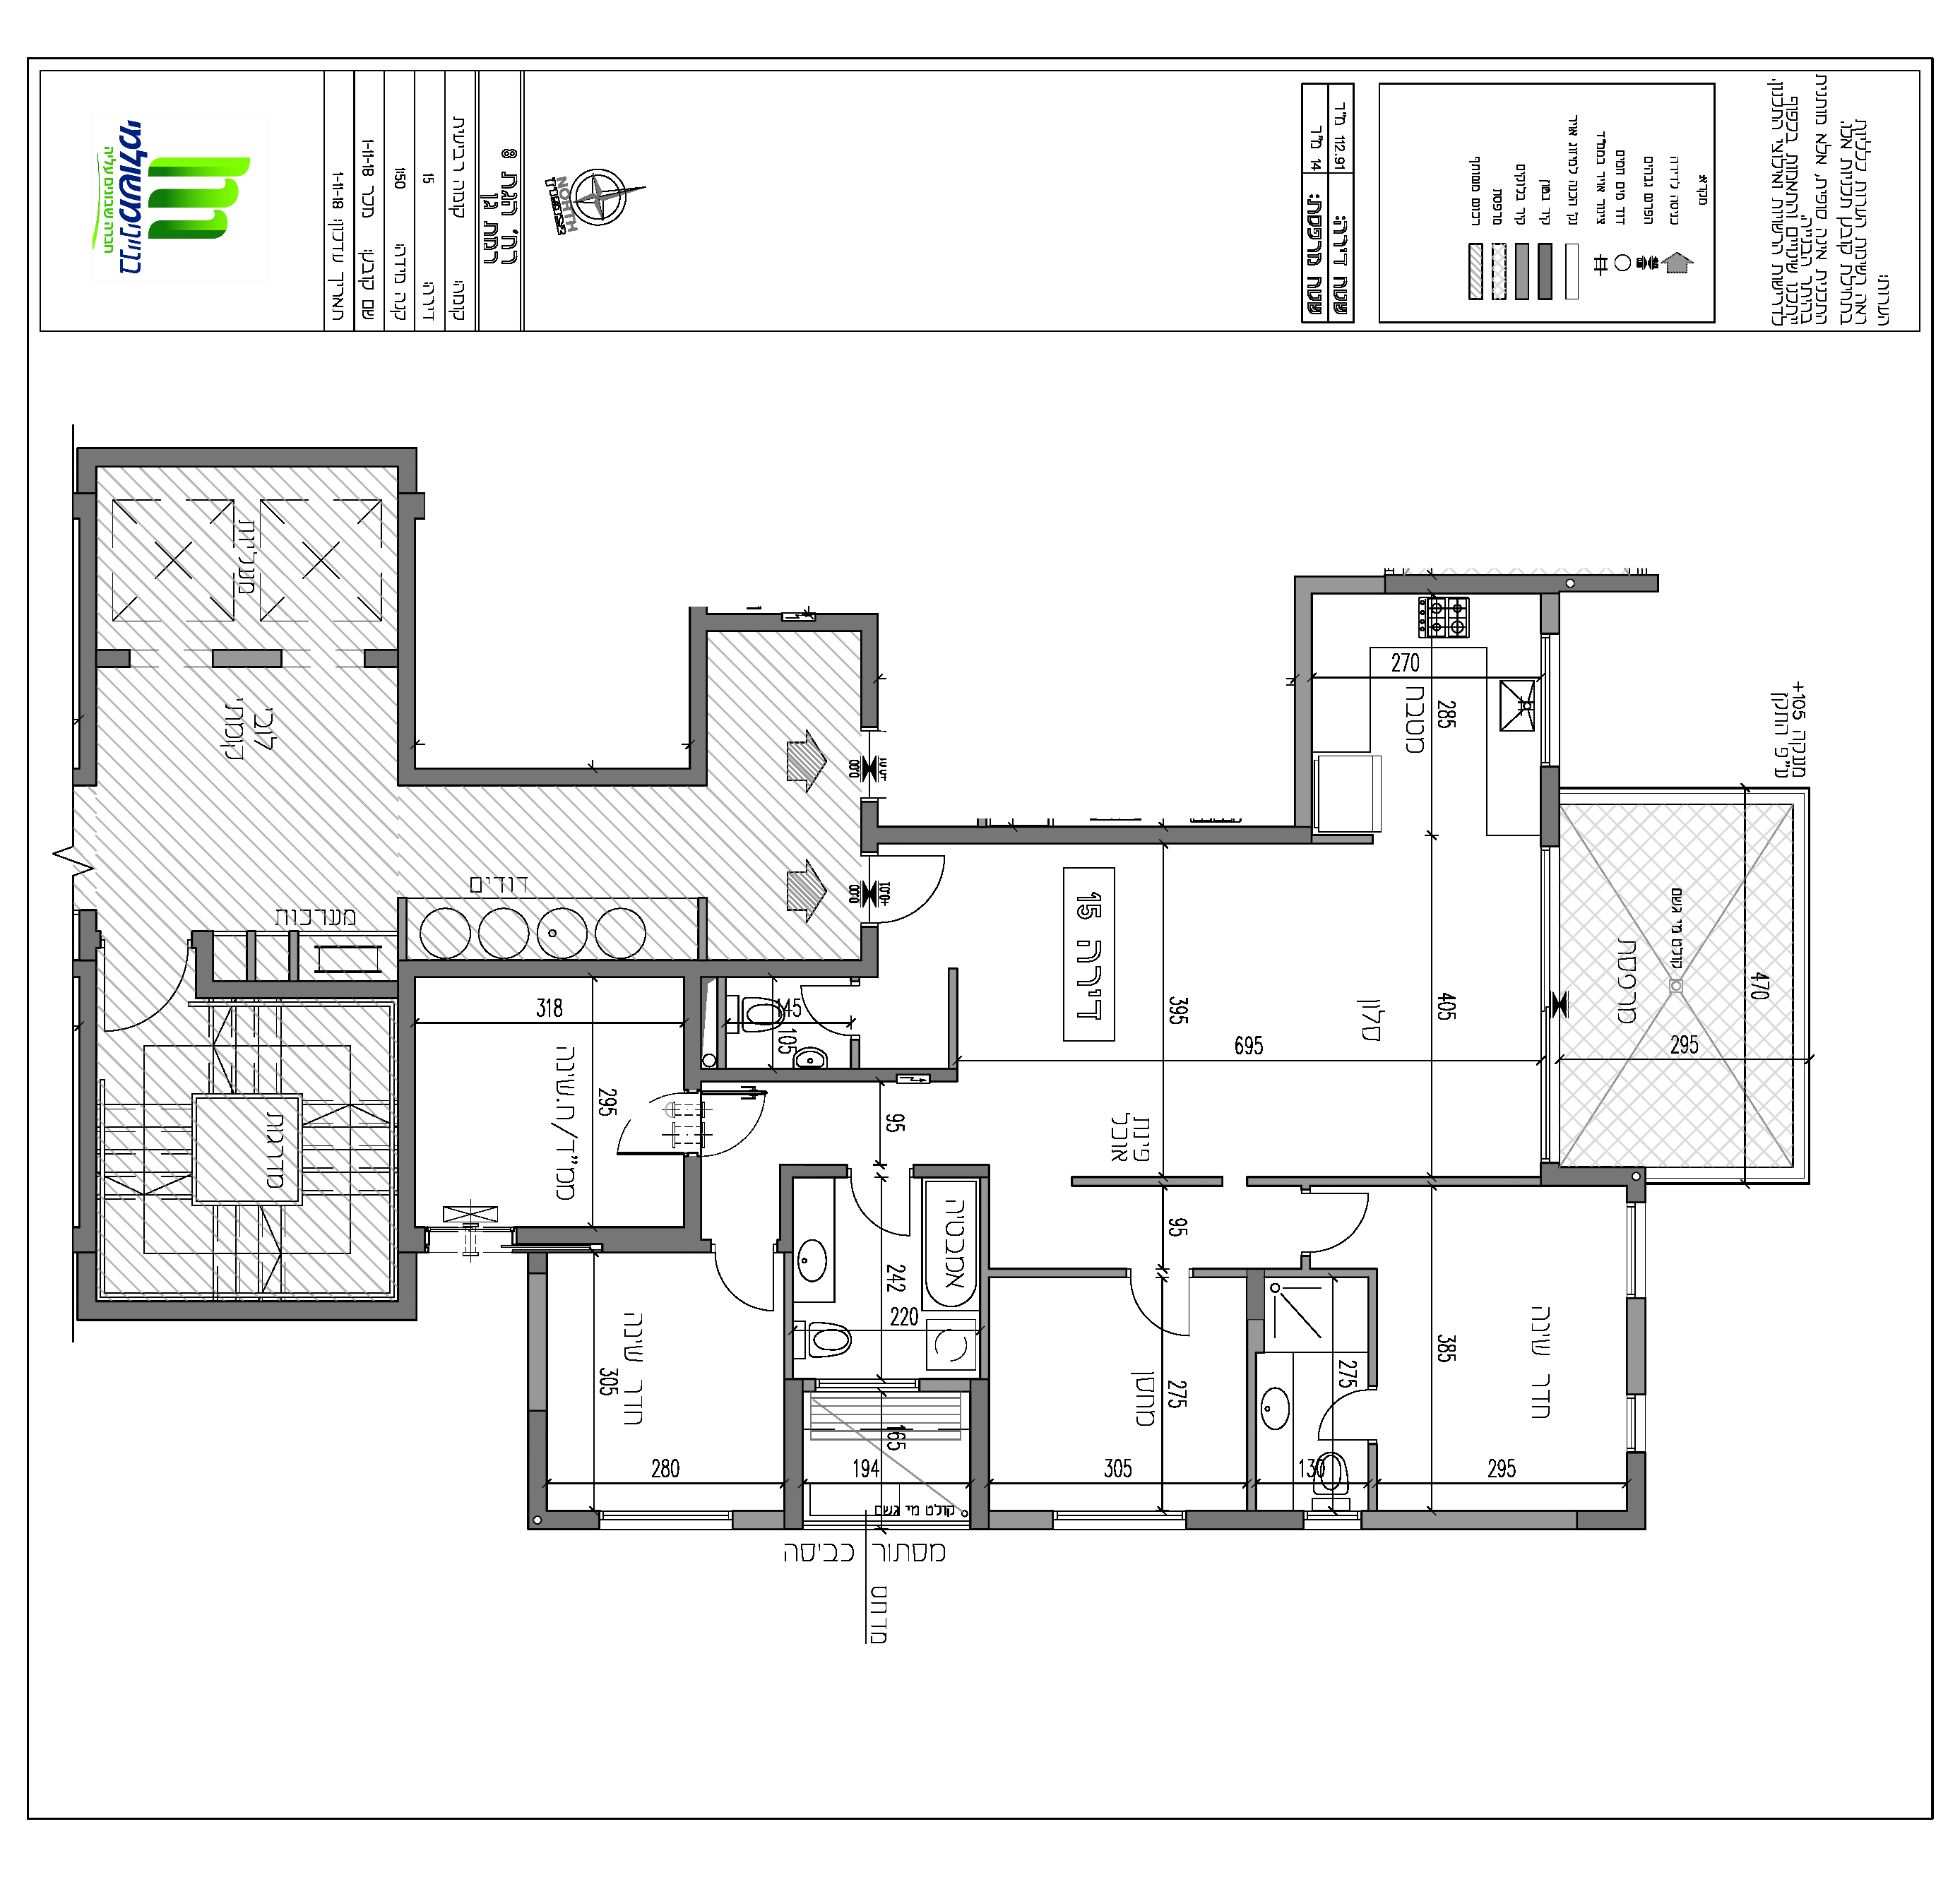door: (887, 848, 959, 927), (711, 1086, 774, 1170), (837, 1184, 917, 1246), (703, 1254, 777, 1319), (1314, 1183, 1374, 1261), (1122, 1291, 1199, 1347), (1314, 1377, 1361, 1448)
rd: (17, 37, 1950, 380)
wall: (866, 824, 1316, 845), (401, 962, 418, 1315), (436, 962, 865, 976), (80, 962, 98, 1247), (399, 770, 700, 784), (94, 450, 396, 464), (80, 499, 94, 782), (200, 980, 394, 999), (401, 495, 413, 773), (607, 1228, 691, 1254), (1370, 1515, 1572, 1525), (691, 618, 705, 763), (973, 1385, 984, 1525), (863, 619, 877, 719), (695, 614, 761, 628), (1547, 1172, 1627, 1183)
window: (1046, 1497, 1192, 1536), (595, 1499, 738, 1536), (1536, 628, 1565, 771), (1622, 1198, 1652, 1305), (1299, 1501, 1369, 1538), (1621, 1391, 1654, 1462)
